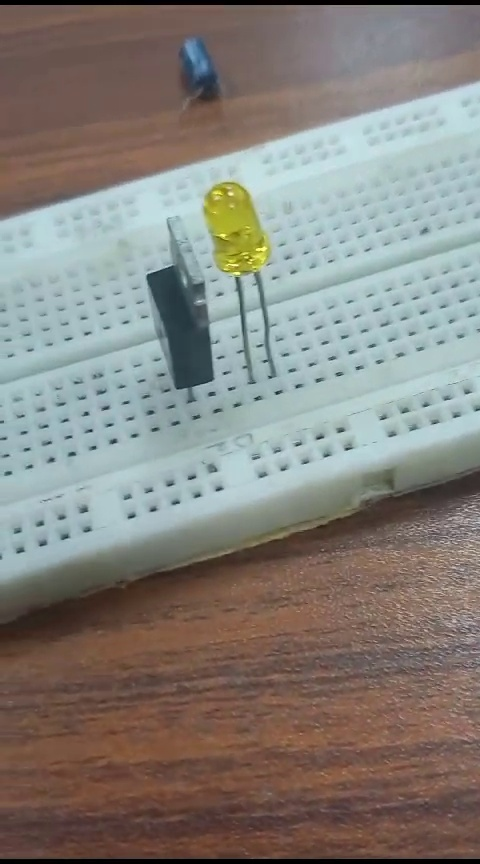LED: (206, 180, 283, 383)
voltage regulator: (130, 223, 215, 403)
